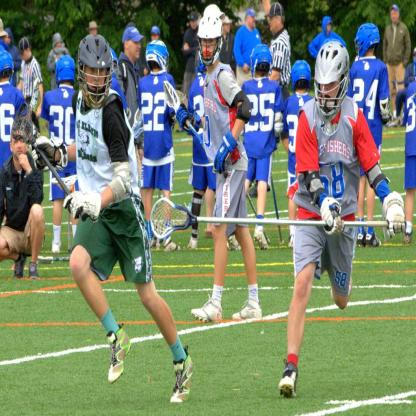Helmet: (72, 32, 110, 101), (315, 40, 346, 119), (196, 17, 236, 62), (251, 45, 276, 80), (55, 53, 79, 89), (146, 39, 170, 68)
